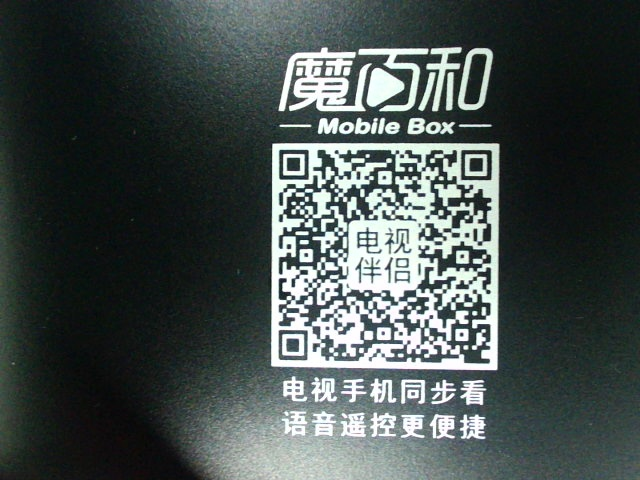AZ_MobileBox: (263, 42, 512, 442)
